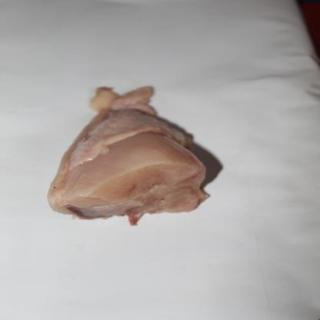Ayam: (54, 89, 204, 218)
